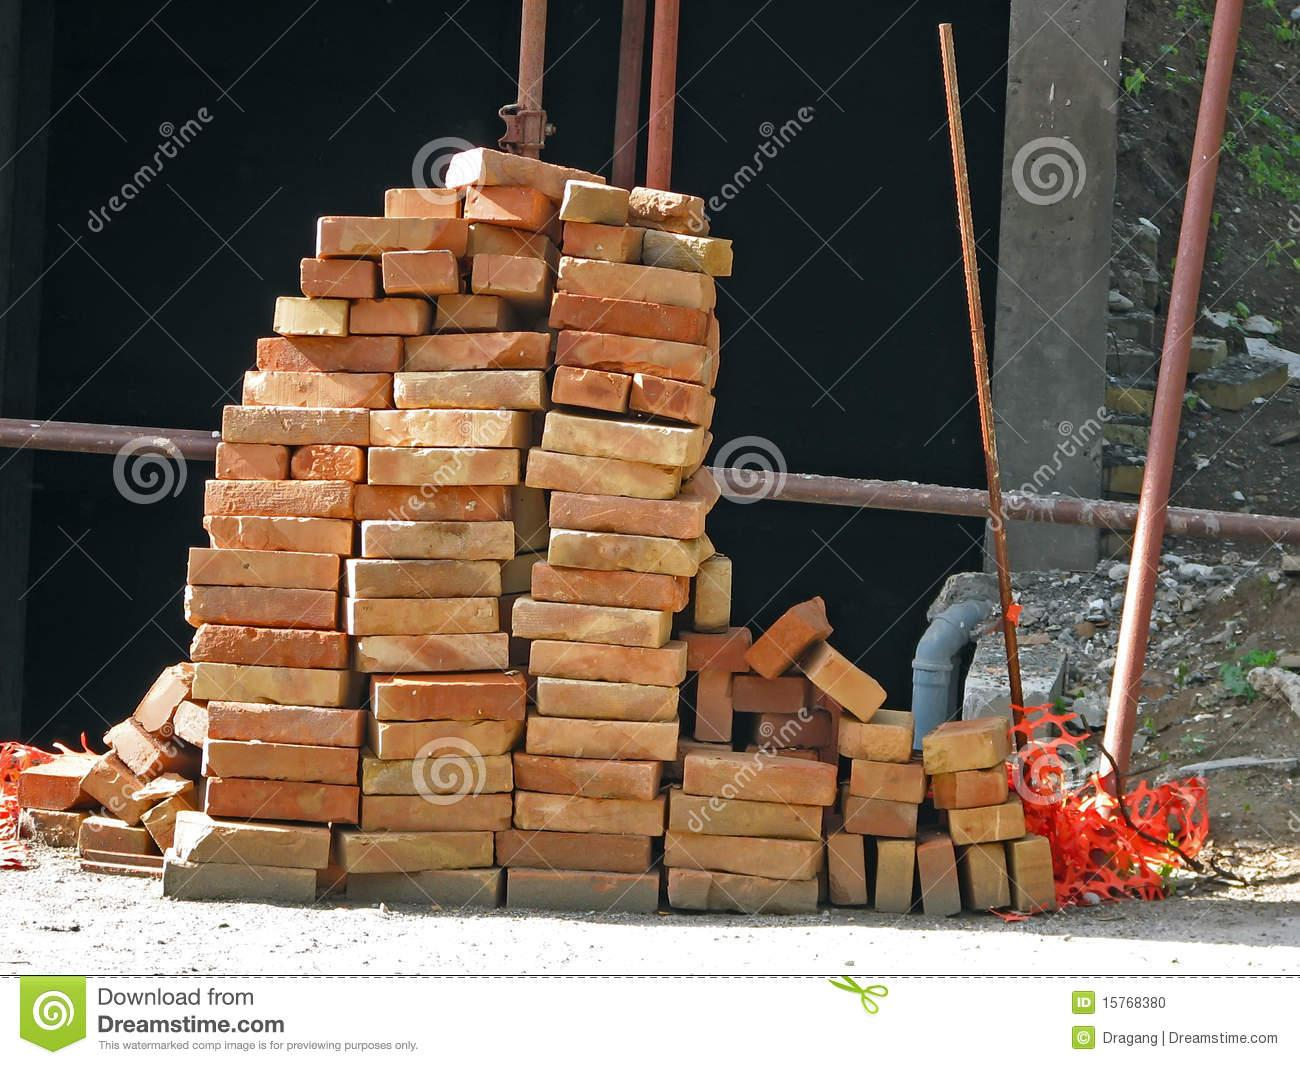brick: (556, 257, 716, 312), (549, 293, 707, 343), (542, 413, 690, 467), (683, 756, 837, 806), (555, 331, 707, 380), (665, 830, 812, 880), (512, 598, 659, 648), (201, 738, 357, 784), (526, 450, 675, 499), (206, 778, 360, 824), (549, 529, 700, 576), (207, 701, 362, 746), (532, 564, 679, 611), (176, 824, 329, 869), (164, 859, 317, 904), (190, 623, 347, 668), (550, 491, 699, 538), (528, 641, 679, 686), (668, 868, 816, 914), (496, 830, 650, 873), (514, 792, 664, 836), (669, 796, 822, 839), (526, 717, 679, 759), (192, 662, 338, 706), (188, 548, 339, 590), (185, 585, 336, 628), (507, 869, 659, 912), (514, 754, 653, 799), (344, 832, 492, 874), (362, 521, 514, 560), (357, 633, 509, 672), (354, 484, 514, 521), (363, 755, 513, 794), (320, 215, 469, 254), (348, 869, 496, 908), (368, 447, 519, 485), (376, 683, 527, 720), (222, 406, 369, 445), (204, 481, 354, 518), (355, 560, 501, 598), (243, 370, 391, 408), (362, 794, 512, 831), (394, 372, 543, 408), (203, 517, 352, 554), (405, 333, 550, 370), (354, 597, 500, 634), (370, 410, 514, 447), (380, 720, 518, 758), (538, 684, 679, 720), (257, 336, 402, 372), (809, 652, 884, 720), (743, 609, 814, 680), (629, 374, 715, 428), (629, 187, 708, 237), (552, 366, 633, 412), (949, 801, 1025, 845), (382, 250, 457, 293), (918, 842, 961, 916), (923, 730, 994, 774), (472, 254, 546, 296), (850, 759, 922, 803), (839, 719, 911, 761), (1015, 838, 1056, 911), (560, 184, 631, 226), (845, 796, 917, 837), (273, 297, 348, 336), (301, 258, 373, 298), (875, 841, 915, 913), (932, 770, 1006, 808), (694, 670, 732, 742), (828, 835, 867, 905), (967, 845, 1010, 909), (642, 229, 705, 272), (216, 442, 287, 480), (468, 224, 546, 257), (350, 298, 420, 335), (563, 221, 625, 262), (681, 634, 750, 671), (732, 676, 802, 712), (695, 562, 731, 631), (760, 712, 831, 746), (463, 187, 537, 220), (290, 445, 358, 480), (385, 189, 458, 219), (436, 295, 500, 326)
